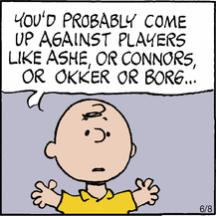charlie: (31, 98, 161, 216)
